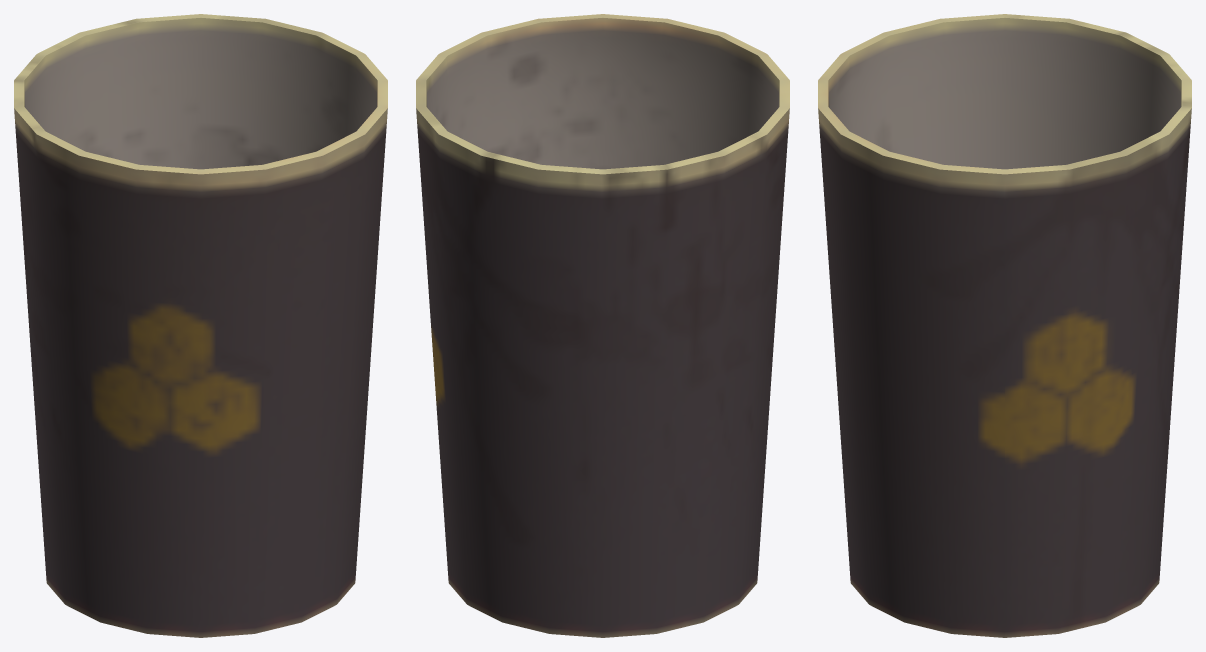
Rendered from SM_Cup_A.FBX.
The picture shows the model from 3 angles, left to right: view 1: azimuth 30°, elevation 25°; view 2: azimuth 150°, elevation 25°; view 3: azimuth 270°, elevation 25°; orthographic projection.
Parts seen in each view (by area): view 1: SM_Cup_A; view 2: SM_Cup_A; view 3: SM_Cup_A.
Boxes of the visible parts, x1=… form: SM_Cup_A: x1=14, y1=14, x2=387, y2=637; SM_Cup_A: x1=416, y1=14, x2=789, y2=637; SM_Cup_A: x1=818, y1=14, x2=1191, y2=637.
Bounding box in the file's own units: 11.83 × 16.44 × 11.65.
1 material, 1 textured.
